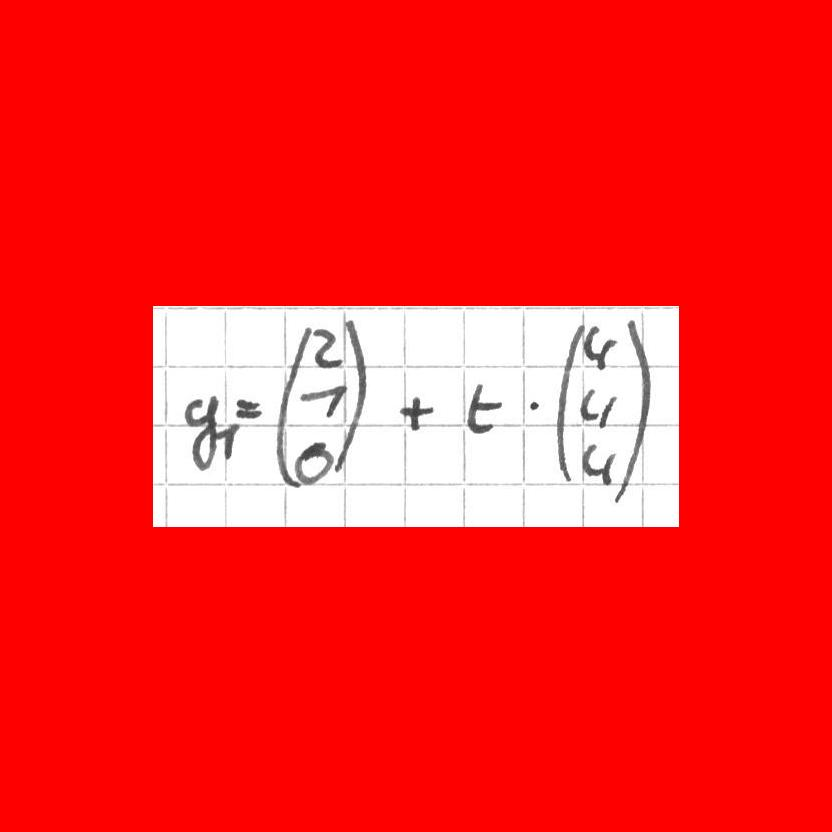Char: (619, 316, 650, 501), (551, 319, 583, 486), (266, 326, 297, 492), (342, 316, 371, 478), (181, 392, 220, 478), (462, 376, 503, 437), (292, 440, 336, 485), (578, 383, 620, 429), (578, 439, 620, 485), (296, 383, 348, 418), (582, 319, 616, 372), (398, 390, 438, 434), (310, 325, 348, 370), (211, 420, 240, 463), (235, 393, 262, 421), (526, 392, 546, 419)
